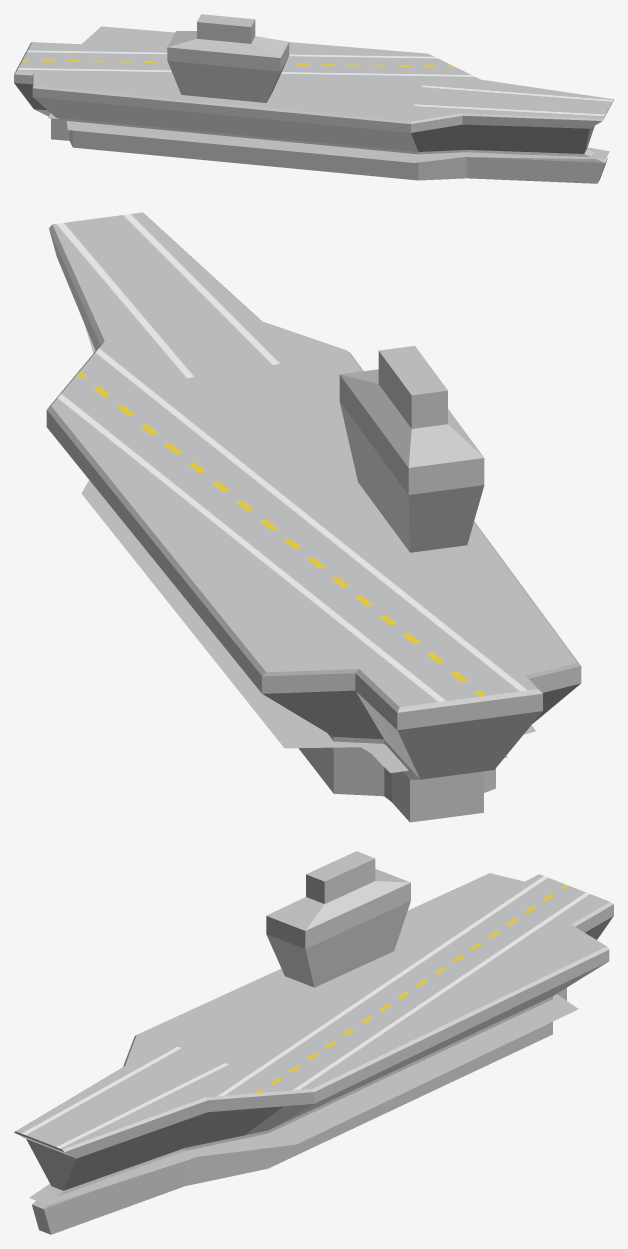
The model's file is carrier.glb.
The picture shows the model from 3 angles, top to bottom: view 1: azimuth 30°, elevation 25°; view 2: azimuth 150°, elevation 25°; view 3: azimuth 270°, elevation 25°; orthographic projection. The views are drawn at different scales.
Parts seen in each view (by area): view 1: carrier, carrier.001__hit; view 2: carrier, carrier.001__hit; view 3: carrier, carrier.001__hit.
Part boxes in pixels (left/top/right/bottom): carrier: left=14, top=14, right=613, bottom=183; carrier.001__hit: left=48, top=113, right=609, bottom=162; carrier: left=46, top=212, right=581, bottom=822; carrier.001__hit: left=81, top=324, right=535, bottom=772; carrier: left=14, top=851, right=613, bottom=1234; carrier.001__hit: left=29, top=994, right=578, bottom=1205.
Size of the model in its own units: 73.53 by 23.91 by 67.1.
Materials: 1 (1 with a texture image).
